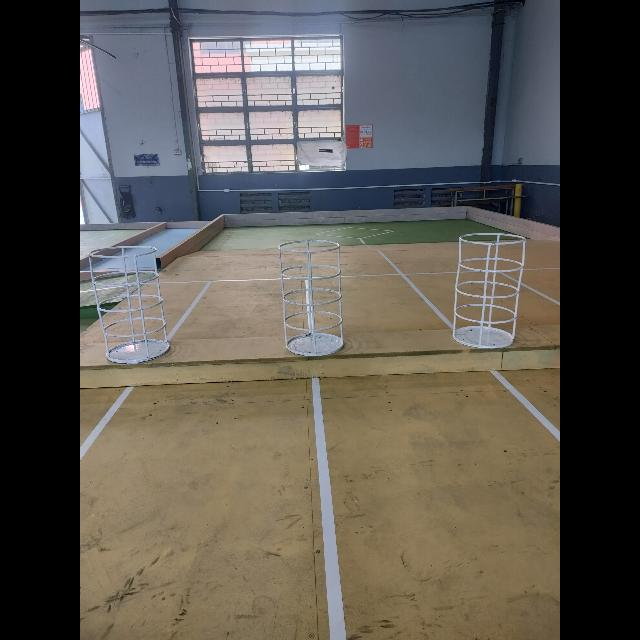S: (87, 244, 172, 367), (451, 231, 528, 352), (277, 237, 346, 359)
